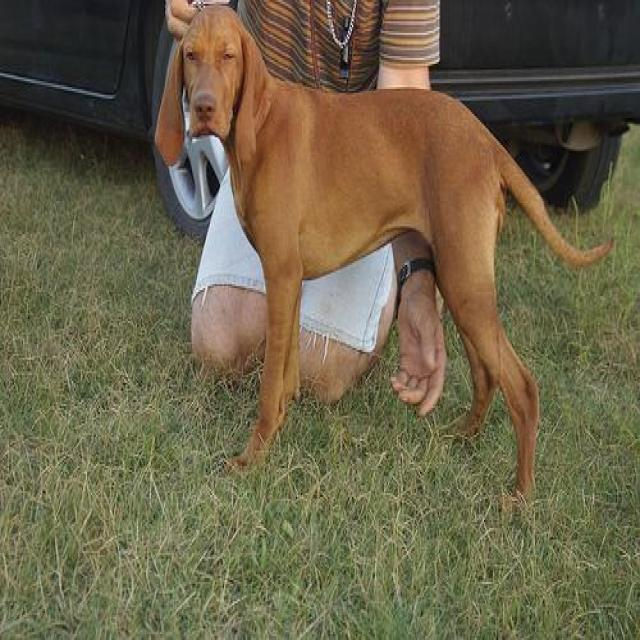vizsla: (154, 6, 616, 520)
